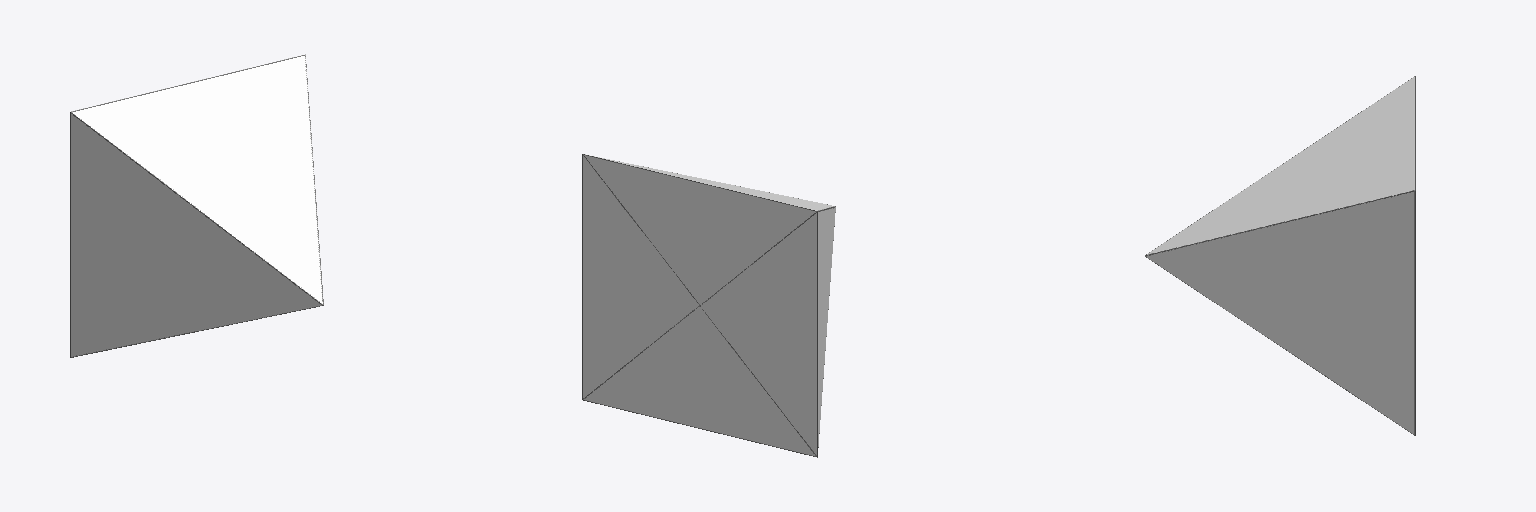
The picture shows the model from 3 angles: view 1: azimuth 30°, elevation 25°; view 2: azimuth 150°, elevation 25°; view 3: azimuth 270°, elevation 25°; orthographic projection.
Visible parts, largest first — view 1: Pyramid; view 2: Pyramid; view 3: Pyramid.
Boxes of the visible parts, x1,y1,x2,y2 form: Pyramid: [70, 54, 323, 357]; Pyramid: [582, 154, 835, 457]; Pyramid: [1145, 76, 1415, 435].
Bounding box in the file's own units: 1 × 1 × 1.
Materials: 1 (1 with a texture image).